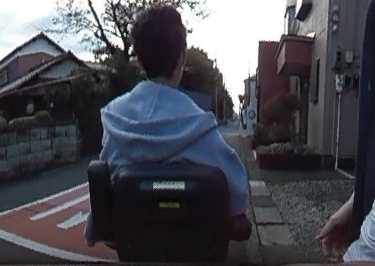person: (109, 8, 243, 226)
